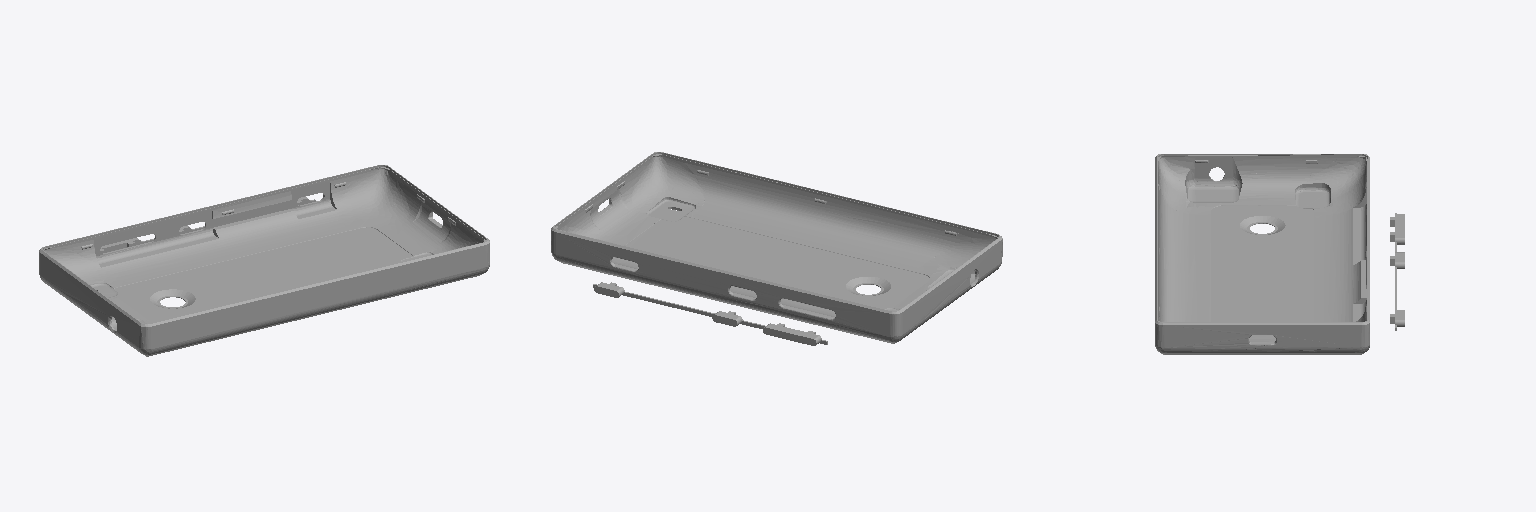
File: your-phone-case-thingy.obj
The picture shows the model from 3 angles: view 1: azimuth 30°, elevation 25°; view 2: azimuth 150°, elevation 25°; view 3: azimuth 270°, elevation 25°; orthographic projection.
Visible parts, largest first — view 1: customizable_nokia_520_case_[number redacted]_5384_l6brzj_0_1_; view 2: customizable_nokia_520_case_[number redacted]_5384_l6brzj_0_1_; view 3: customizable_nokia_520_case_[number redacted]_5384_l6brzj_0_1_.
Boxes of the visible parts, <box> form: customizable_nokia_520_case_[number redacted]_5384_l6brzj_0_1_: <box>39,165,489,356</box>; customizable_nokia_520_case_[number redacted]_5384_l6brzj_0_1_: <box>551,152,1002,345</box>; customizable_nokia_520_case_[number redacted]_5384_l6brzj_0_1_: <box>1155,154,1404,354</box>.
Bounding box in the file's own units: 120 × 11.74 × 74.33.